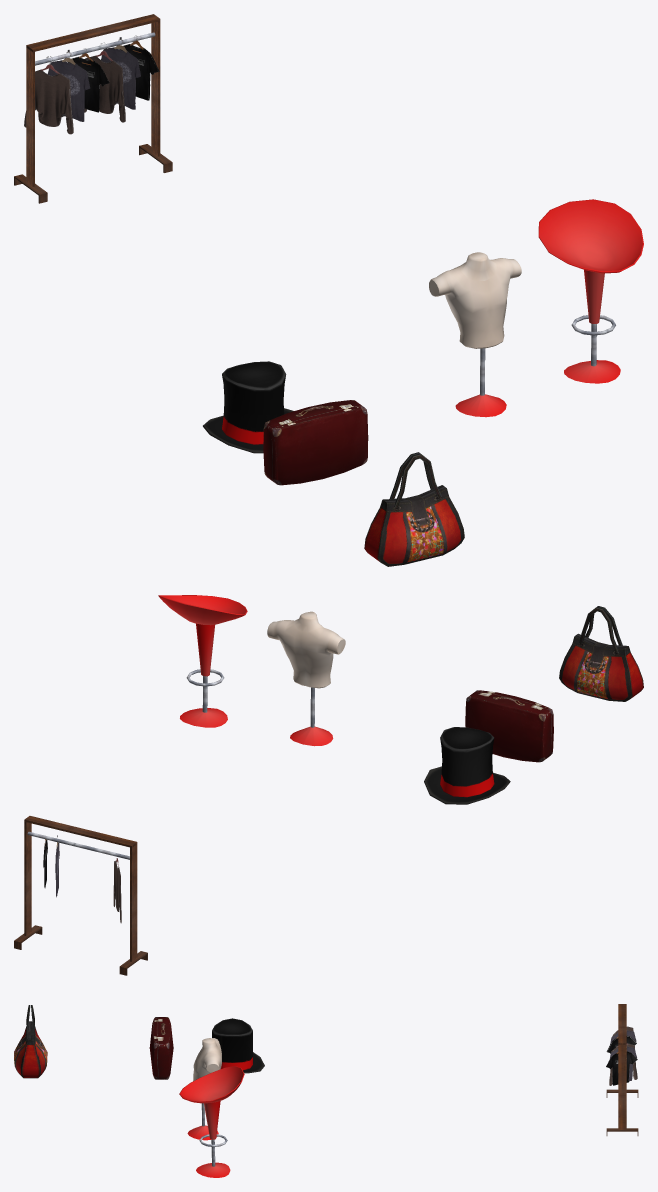
Rendered from hurdles_01.FBX.
3 renders of one model, top to bottom at view 1: azimuth 30°, elevation 25°; view 2: azimuth 150°, elevation 25°; view 3: azimuth 270°, elevation 25°, orthographic. The views are drawn at different scales.
Parts seen in each view (by area): view 1: Box002, default001, kofer, polySurface11, Mesh_0393_, Cylinder001; view 2: kofer, Mesh_0393_, Cylinder001, polySurface11, Box002, default001; view 3: default001, Box002, Cylinder001, Mesh_0393_, kofer, polySurface11.
Boxes of the visible parts, box(x1,y1,x2,y2) form: Box002: box(14, 14, 172, 203); default001: box(538, 199, 643, 383); kofer: box(263, 400, 368, 485); polySurface11: box(429, 252, 521, 417); Mesh_0393_: box(364, 452, 464, 566); Cylinder001: box(203, 361, 293, 453); kofer: box(465, 690, 553, 762); Mesh_0393_: box(559, 606, 643, 701); Cylinder001: box(424, 727, 510, 804); polySurface11: box(267, 611, 345, 746); Box002: box(14, 816, 147, 975); default001: box(158, 595, 247, 727); default001: box(179, 1066, 244, 1177); Box002: box(606, 1004, 638, 1135); Cylinder001: box(212, 1018, 264, 1073); Mesh_0393_: box(14, 1005, 47, 1078); kofer: box(149, 1017, 173, 1079); polySurface11: box(187, 1038, 221, 1140).
Size of the model in its own units: 464 by 163 by 965.
